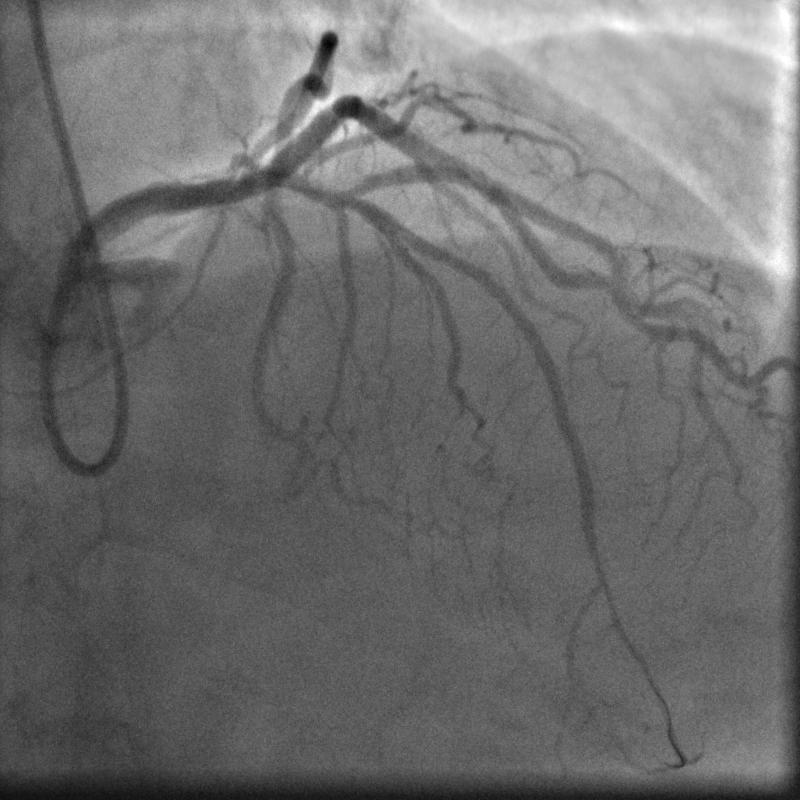Stenosis: (455, 160, 501, 203)
